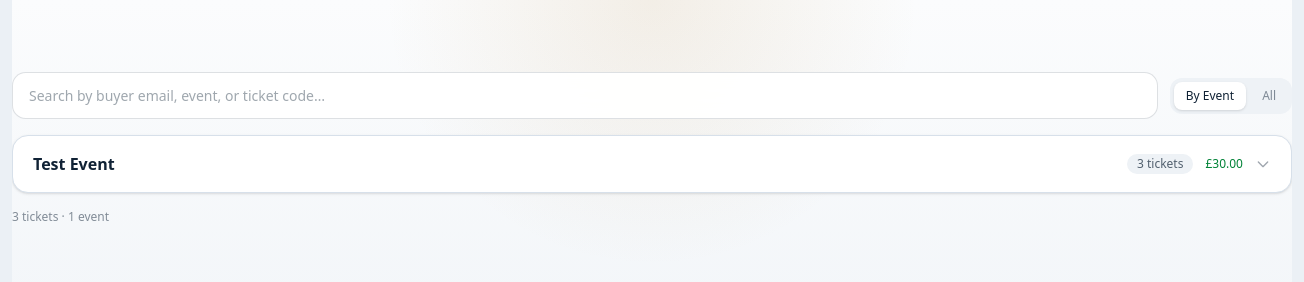
Test: TicketsTab › groups by paymentId in All view and shows quantity
Click the button "All" at point(1269, 96), box [1250,82,1288,110]
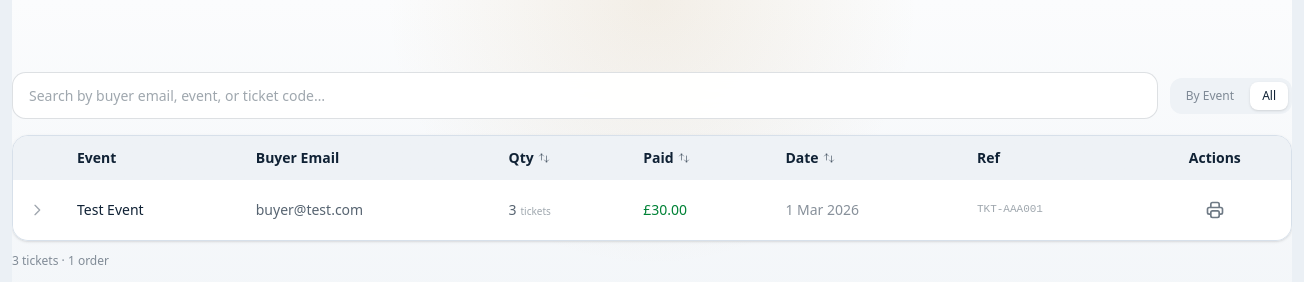
Expected: the text "tickets" is shown, [520,204,551,218]
Expected: the text "3" is shown, [508,200,516,219]
